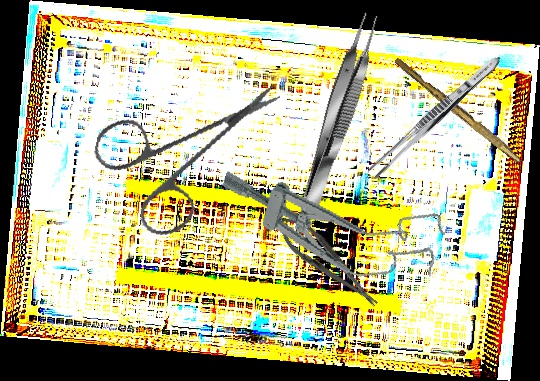Dressing Forceps: (365, 50, 506, 183)
Iris Scissors: (80, 52, 282, 254)
Needle Holder: (267, 205, 387, 318)
Scalpel Handle: (391, 56, 526, 165)
Speculum: (209, 155, 450, 296)
Tissue Forceps: (289, 9, 387, 225)
